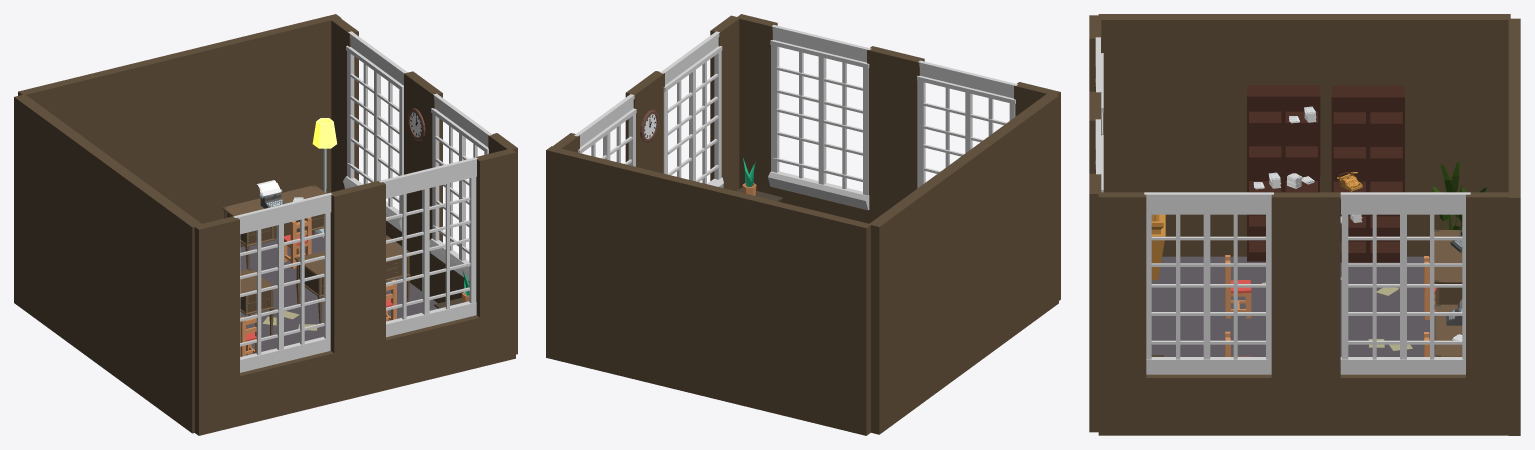
The model's file is escenario 4.fbx.
3 renders of one model, left to right at view 1: azimuth 30°, elevation 25°; view 2: azimuth 150°, elevation 25°; view 3: azimuth 270°, elevation 25°, orthographic. The views are drawn at different scales.
Visible parts, largest first — view 1: Cube.027, Cube.025, Cube.028, Cube.026, group1175033814.004, group1175033814.005, group1175033814.002, Plane.002, group1175033814.001, Desk_Drawer2.002, Desk_Drawer2, Desk_Drawer2.003 (+4 smaller); view 2: Cube.028, Cube.025, Cube.027, group1175033814.005, Cube.026, group1175033814.001, group1175033814.004, group1175033814.002; view 3: Cube.025, Cube.026, Plane.002, group1175033814.001, group1175033814.002, OpenDoorTallCabinet1, OpenDoorTallCabinet1.001, Cube.028, Cube.027, Desk_Drawer2.001, Desk_Drawer2, chairCushion.003 (+4 smaller).
Part boxes in pixels (left/top/right/bottom): Cube.027: left=194, top=149, right=515, bottom=435; Cube.025: left=14, top=95, right=202, bottom=433; Cube.028: left=18, top=14, right=341, bottom=247; Cube.026: left=331, top=18, right=517, bottom=354; group1175033814.004: left=233, top=192, right=332, bottom=372; group1175033814.005: left=379, top=157, right=477, bottom=337; group1175033814.002: left=343, top=31, right=407, bottom=231; Plane.002: left=240, top=231, right=437, bottom=355; group1175033814.001: left=429, top=93, right=492, bottom=280; Desk_Drawer2.002: left=294, top=235, right=410, bottom=323; Desk_Drawer2: left=222, top=184, right=326, bottom=269; Desk_Drawer2.003: left=240, top=268, right=273, bottom=335; Cube.028: left=546, top=146, right=870, bottom=435; Cube.025: left=869, top=93, right=1058, bottom=434; Cube.027: left=737, top=14, right=1060, bottom=300; group1175033814.005: left=768, top=25, right=871, bottom=210; Cube.026: left=552, top=15, right=739, bottom=191; group1175033814.001: left=660, top=31, right=723, bottom=187; group1175033814.004: left=917, top=60, right=1017, bottom=188; group1175033814.002: left=574, top=94, right=636, bottom=166; Cube.025: left=1098, top=14, right=1510, bottom=256; Cube.026: left=1098, top=192, right=1508, bottom=435; Plane.002: left=1151, top=256, right=1435, bottom=356; group1175033814.001: left=1144, top=192, right=1273, bottom=374; group1175033814.002: left=1340, top=192, right=1470, bottom=374; OpenDoorTallCabinet1: left=1331, top=85, right=1404, bottom=262; OpenDoorTallCabinet1.001: left=1247, top=85, right=1320, bottom=261; Cube.028: left=1508, top=18, right=1520, bottom=435; Cube.027: left=1089, top=15, right=1101, bottom=432; Desk_Drawer2.001: left=1434, top=229, right=1462, bottom=304; Desk_Drawer2: left=1435, top=304, right=1462, bottom=356; chairCushion.003: left=1225, top=255, right=1251, bottom=318.
Bounding box in the file's own units: 422 × 258 × 419.
